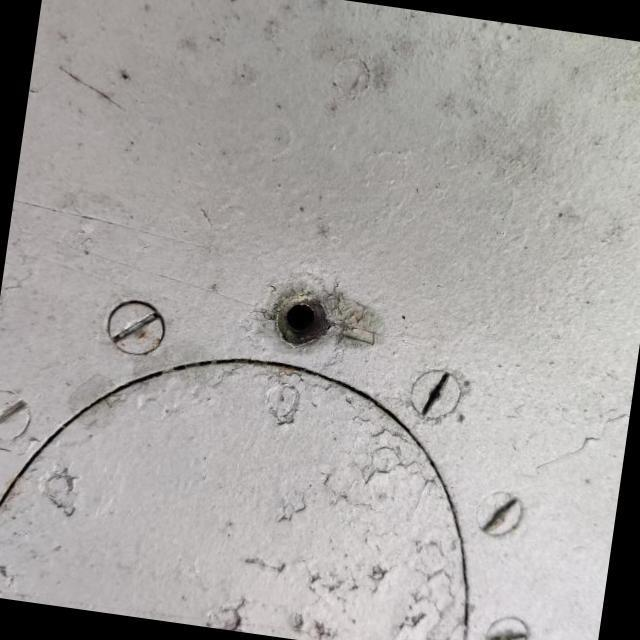Missing Fastener: (263, 282, 339, 356)
